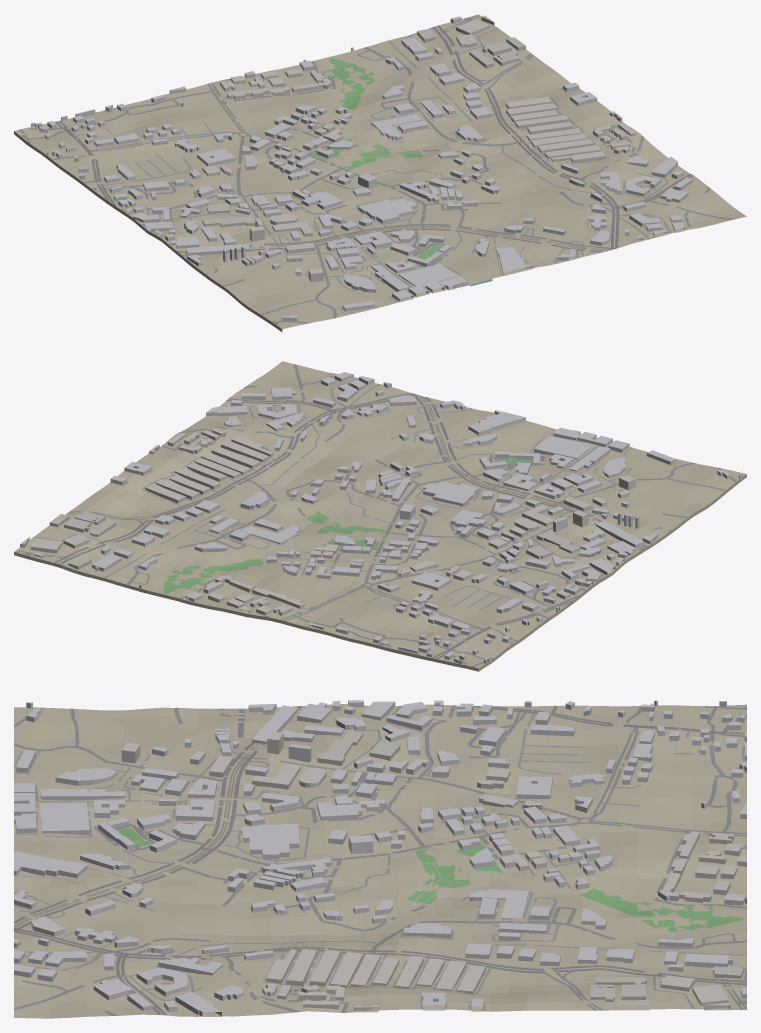
File: context.glb
3 renders of one model, top to bottom at view 1: azimuth 30°, elevation 25°; view 2: azimuth 150°, elevation 25°; view 3: azimuth 270°, elevation 25°, orthographic. The views are drawn at different scales.
Visible parts, largest first — view 1: Terrain, OSM_Buildings, OSM_Roads_Street, OSM_Roads_Service, OSM_Roads_Primary, OSM_Green, OSM_Roads_Rail; view 2: Terrain, OSM_Buildings, OSM_Roads_Street, OSM_Roads_Service, OSM_Roads_Primary, OSM_Green, OSM_Roads_Rail; view 3: Terrain, OSM_Buildings, OSM_Roads_Street, OSM_Roads_Service, OSM_Roads_Primary, OSM_Green, OSM_Roads_Rail.
Boxes of the visible parts, box(x1,y1,x2,y2) form: Terrain: box(14, 15, 746, 331); OSM_Buildings: box(21, 15, 692, 325); OSM_Roads_Street: box(18, 14, 734, 323); OSM_Roads_Service: box(74, 26, 671, 313); OSM_Roads_Primary: box(55, 25, 693, 256); OSM_Green: box(311, 58, 441, 259); OSM_Roads_Rail: box(179, 226, 610, 254); Terrain: box(14, 361, 746, 671); OSM_Buildings: box(20, 372, 742, 664); OSM_Roads_Street: box(15, 364, 736, 667); OSM_Roads_Service: box(33, 378, 680, 659); OSM_Roads_Primary: box(54, 393, 647, 659); OSM_Green: box(163, 459, 529, 595); OSM_Roads_Rail: box(418, 395, 644, 548); Terrain: box(14, 704, 746, 1018); OSM_Buildings: box(14, 700, 746, 1016); OSM_Roads_Street: box(14, 705, 746, 1015); OSM_Roads_Service: box(14, 705, 746, 1011); OSM_Roads_Primary: box(14, 706, 746, 1015); OSM_Green: box(117, 827, 743, 931); OSM_Roads_Rail: box(14, 706, 296, 928).
Bounding box in the file's own units: 1200 × 46.91 × 1200.
